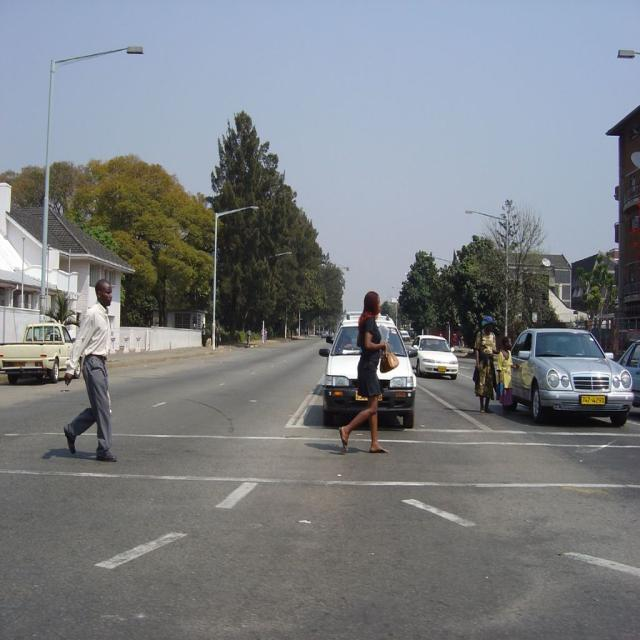car: (492, 320, 635, 424), (410, 331, 458, 371), (616, 344, 639, 408)
